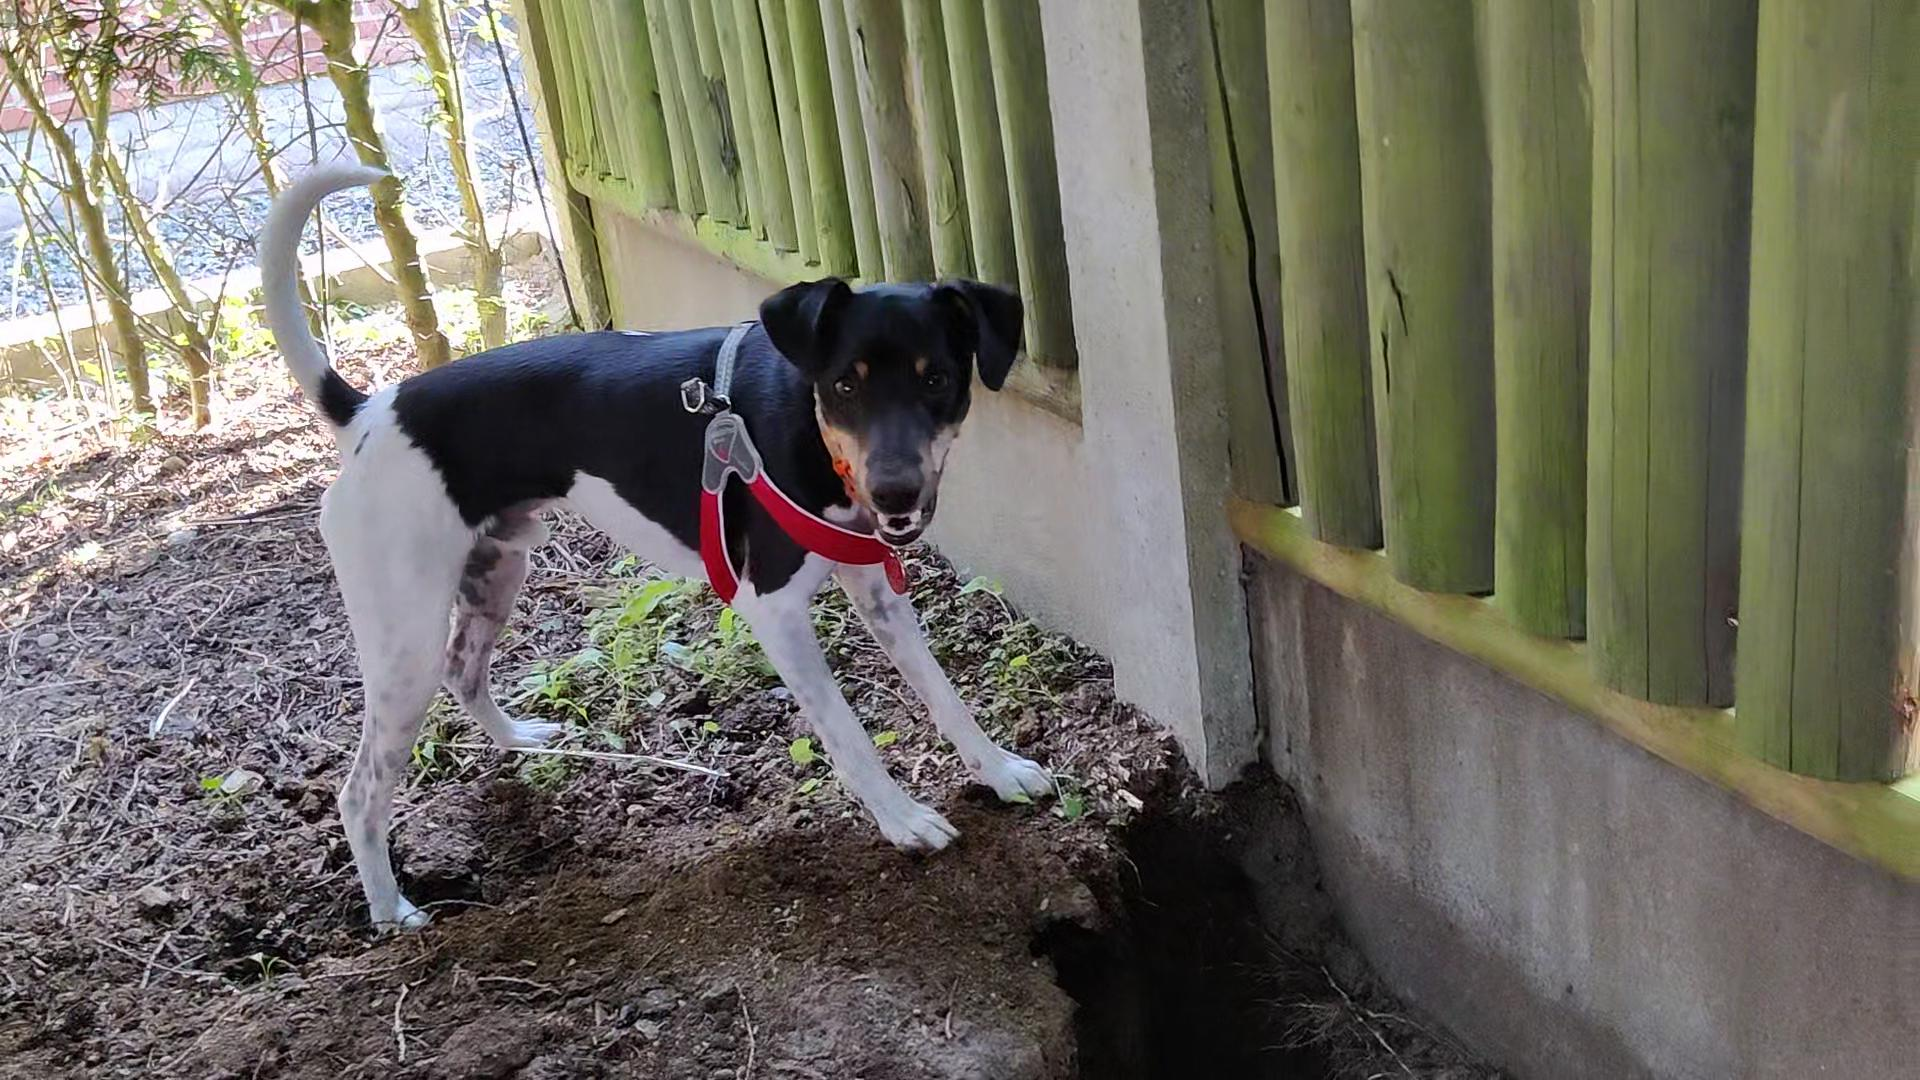Dog: (229, 141, 1097, 934)
